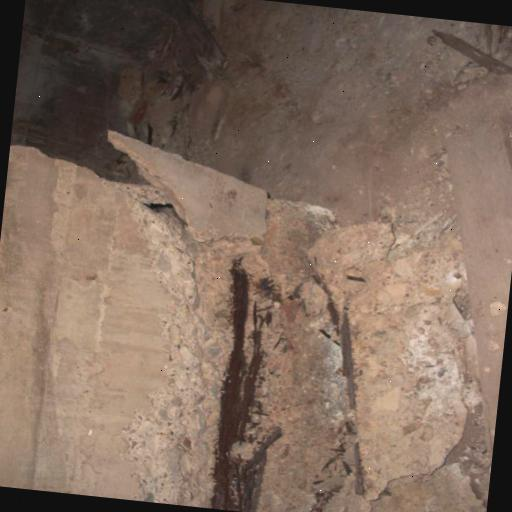spalling: (125, 195, 354, 512)
